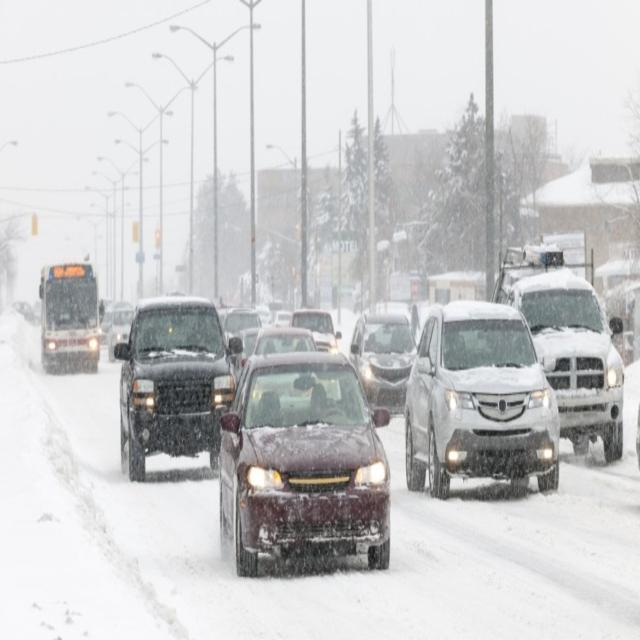car: (218, 342, 394, 578), (401, 298, 559, 502), (117, 294, 233, 479), (512, 273, 628, 458), (346, 307, 418, 420), (221, 308, 265, 371), (289, 308, 340, 352), (253, 324, 315, 356), (104, 304, 136, 360), (12, 298, 36, 327)
truck: (40, 260, 102, 376)
